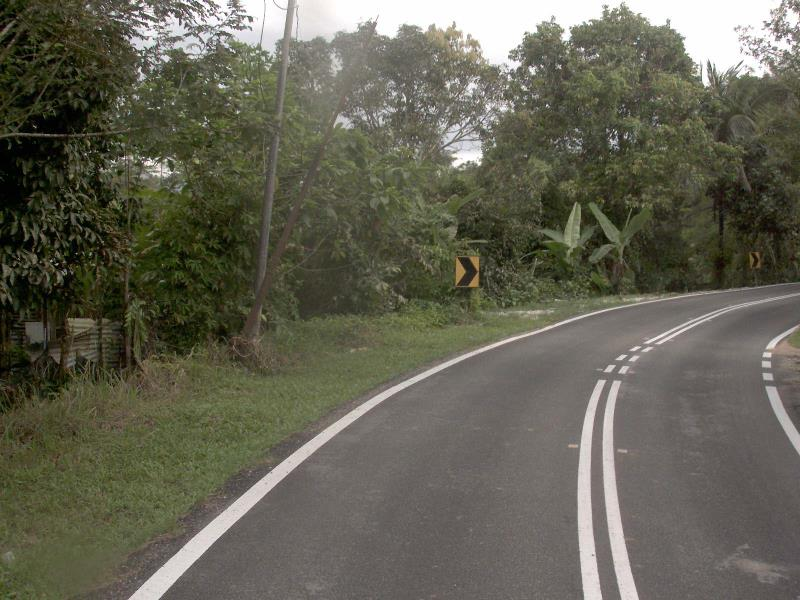traffic_sign: (447, 248, 487, 297)
